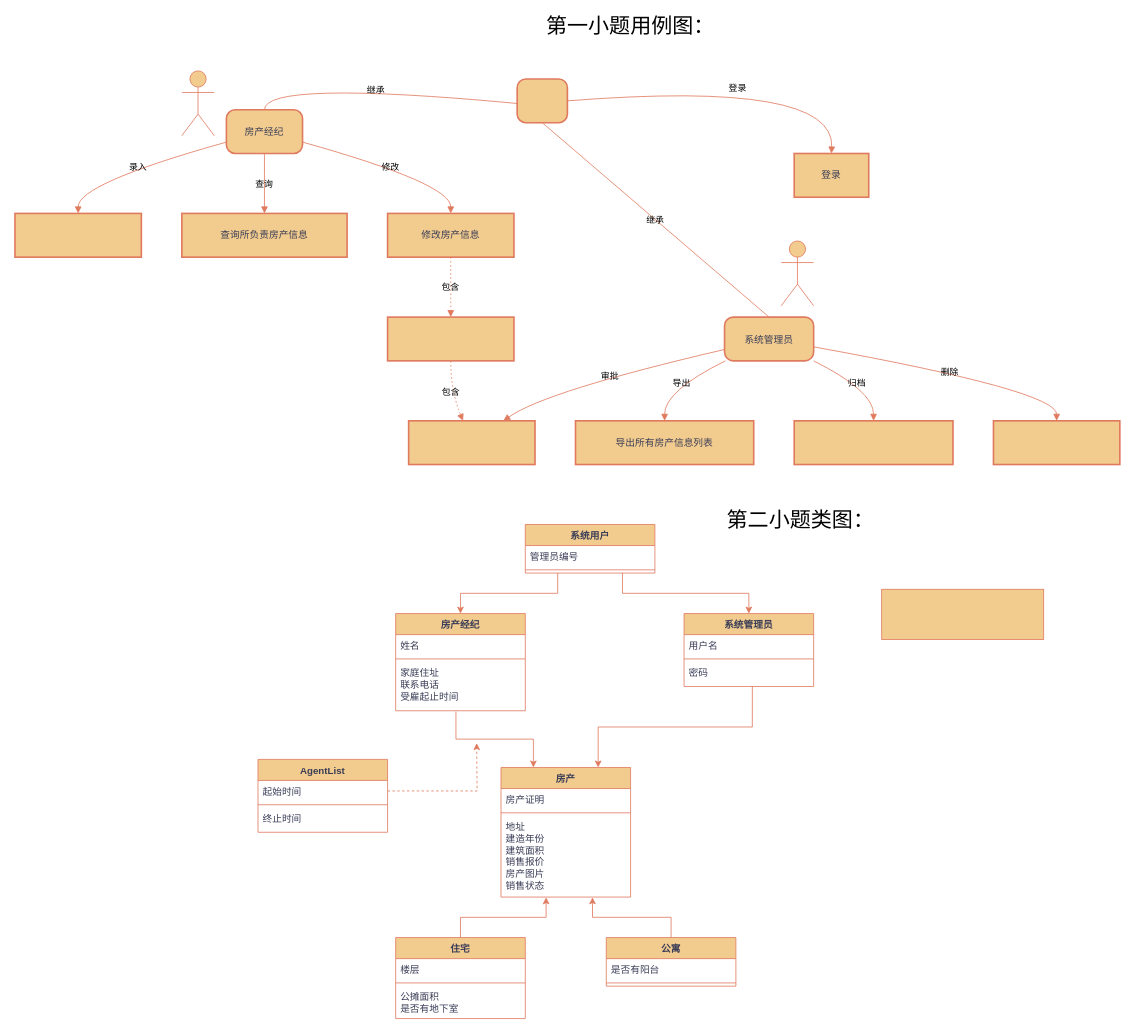
This 1134x1035 diagram has some shape labels left out. The shapes that lost their labels are listed below. From the top down, each one's centre as x and y in pixels, then its label:
(542,100): 用户
(78,235): 录入房产信息
(450,338): 提交审批申请
(471,442): 审批修改申请
(873,442): 归档售出/停售房产
(1056,442): 删除房产信息
(962,613): 学号：20241401215 姓名：戴琬婷
